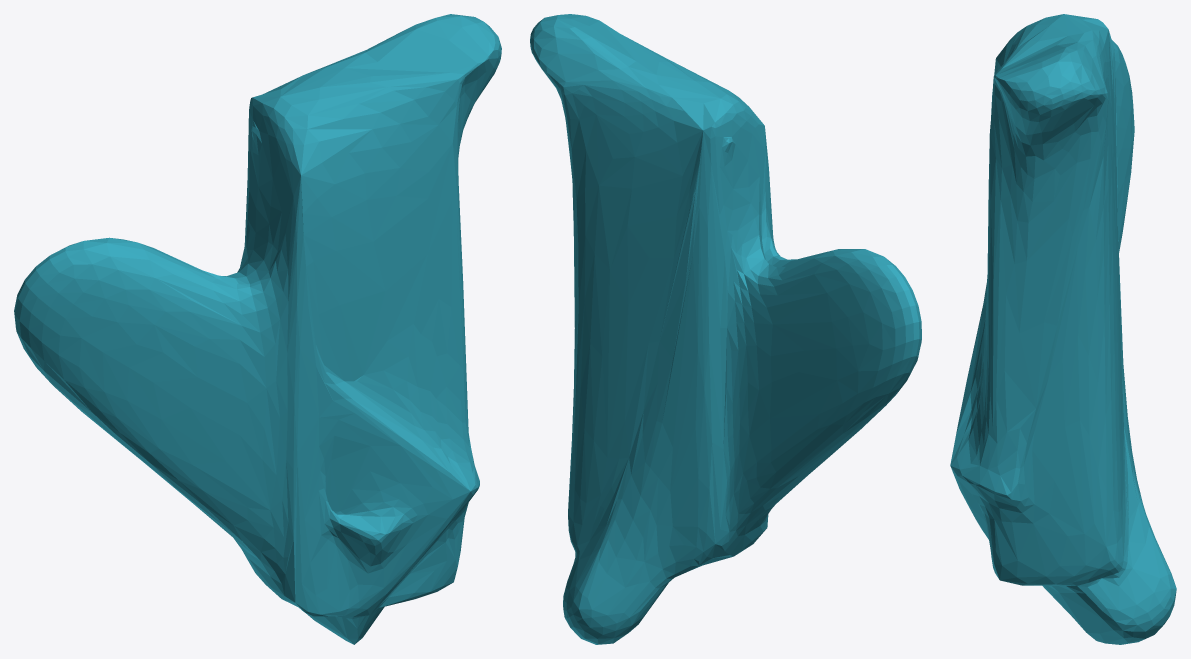
3 renders of one model, left to right at view 1: azimuth 30°, elevation 25°; view 2: azimuth 150°, elevation 25°; view 3: azimuth 270°, elevation 25°, orthographic. The views are drawn at different scales.
Visible parts, largest first — view 1: 205_Cube.851; view 2: 205_Cube.851; view 3: 205_Cube.851.
Part boxes in pixels (left/top/right/bottom): 205_Cube.851: left=14, top=14, right=501, bottom=644; 205_Cube.851: left=530, top=14, right=921, bottom=644; 205_Cube.851: left=950, top=14, right=1176, bottom=644.
Bounding box in the file's own units: 11.35 × 15.13 × 4.98.
